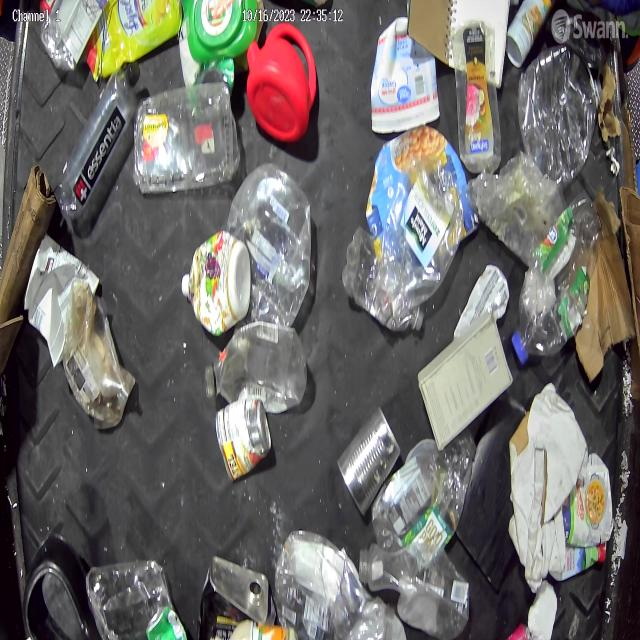can: (338, 408, 403, 517), (214, 397, 272, 484), (145, 604, 190, 640)
milk_jug: (511, 382, 589, 527)
non_white_jug: (246, 22, 317, 144), (182, 233, 251, 336), (90, 1, 184, 76)
plastic_bottle: (513, 192, 601, 363), (274, 529, 396, 639), (369, 440, 475, 561), (63, 67, 137, 219), (358, 541, 471, 640), (205, 322, 310, 417), (342, 225, 424, 332)
